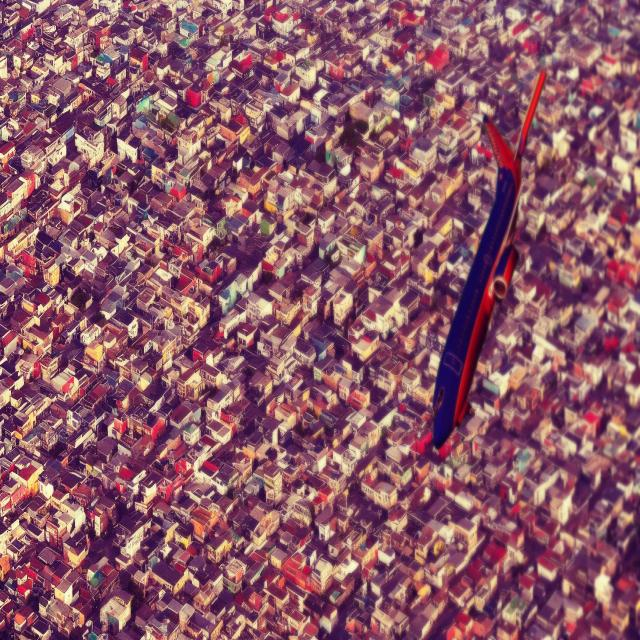airplane: (430, 68, 548, 450)
